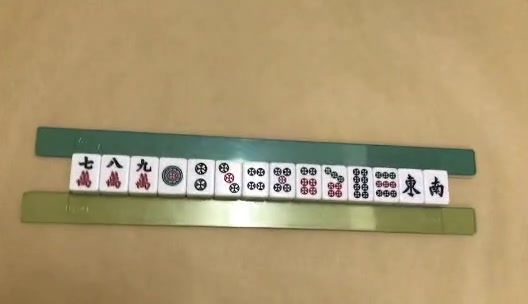1p: (162, 165, 184, 188)
1z: (402, 173, 419, 198)
2p: (193, 163, 207, 190)
2z: (428, 175, 443, 197)
3p: (218, 162, 239, 194)
4p: (247, 167, 266, 189)
5p: (273, 167, 293, 193)
6p: (299, 166, 318, 195)
7m: (76, 158, 93, 189)
7p: (325, 167, 344, 199)
8m: (105, 157, 122, 189)
8p: (351, 168, 370, 198)
9m: (134, 159, 151, 191)
9p: (376, 171, 397, 199)
